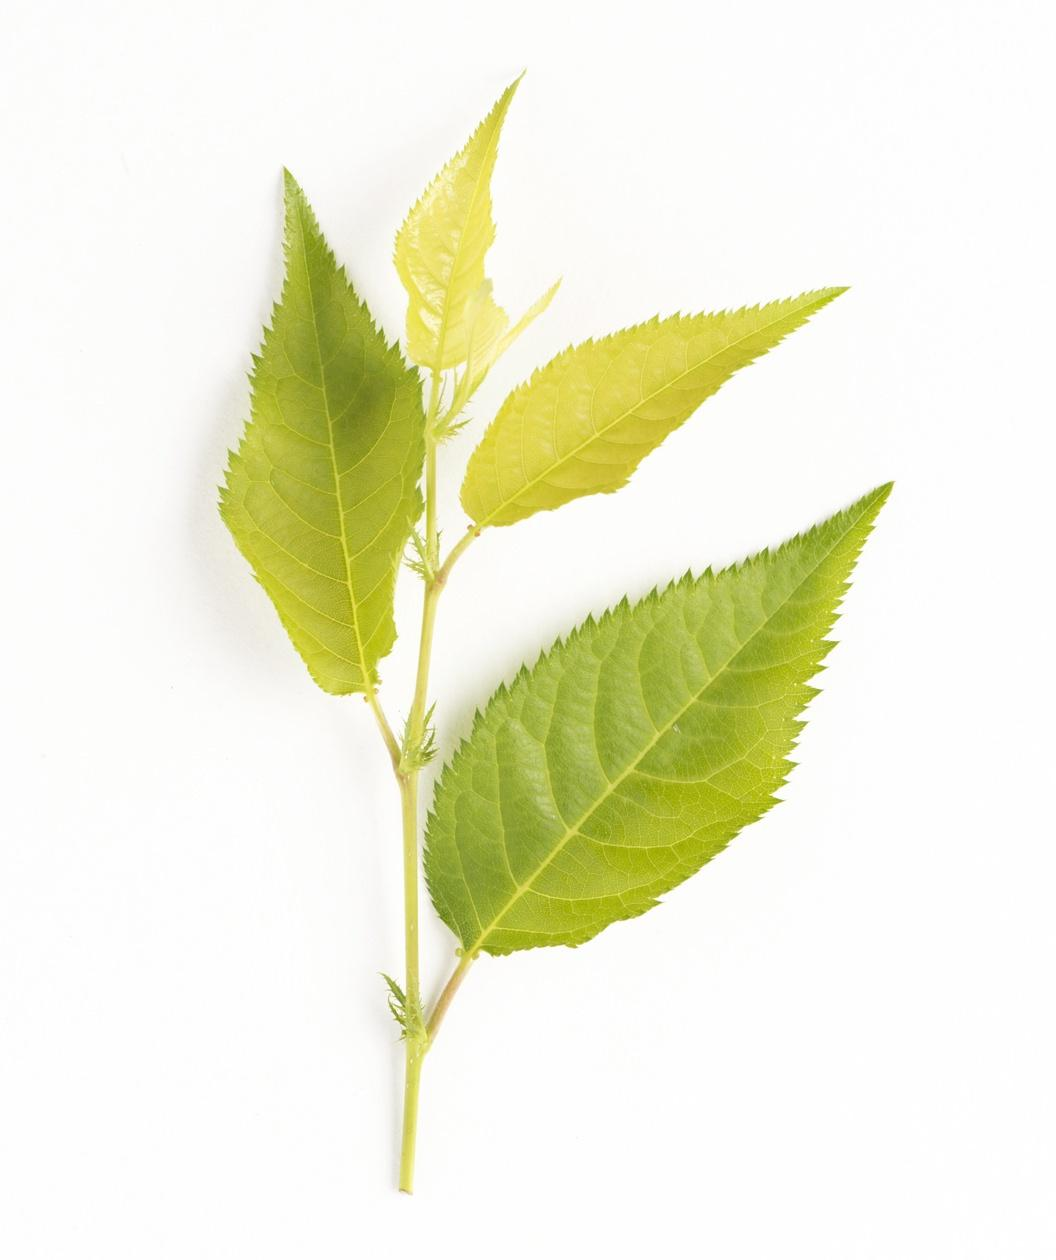Cherry leaf: (424, 521, 892, 987), (196, 158, 435, 812), (454, 262, 850, 527)
